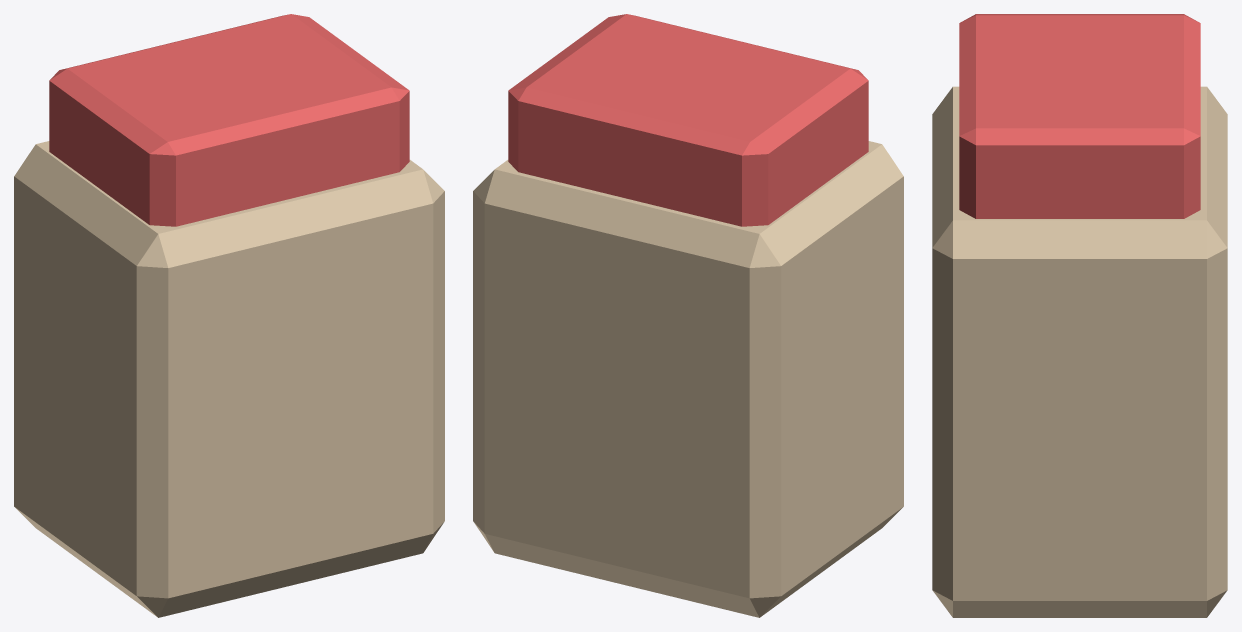
The model's file is b16_folded_takeout_carton.glb.
The picture shows the model from 3 angles, left to right: view 1: azimuth 30°, elevation 25°; view 2: azimuth 150°, elevation 25°; view 3: azimuth 270°, elevation 25°; orthographic projection. The views are drawn at different scales.
Parts seen in each view (by area): view 1: b16_folded_takeout_carton; view 2: b16_folded_takeout_carton; view 3: b16_folded_takeout_carton.
Boxes of the visible parts, x1,y1,x2,y2 form: b16_folded_takeout_carton: (14, 14, 444, 617); b16_folded_takeout_carton: (473, 14, 903, 617); b16_folded_takeout_carton: (932, 14, 1227, 617).
Bounding box in the file's own units: 0.101 × 0.145 × 0.081.
